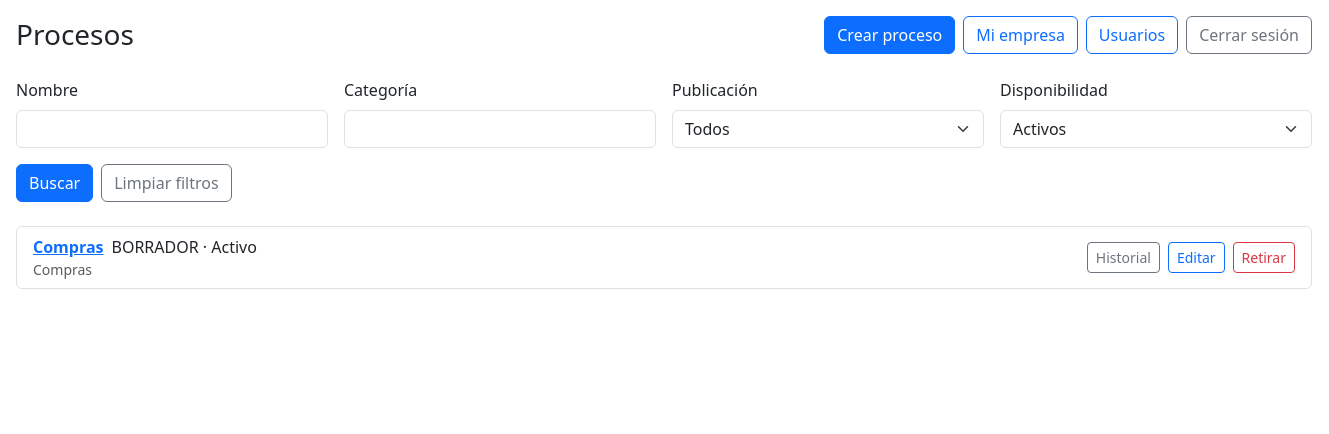
ProcesosListComponent › retira únicamente después de confirmar y conserva el filtro al recargar
Click the button "Retirar" at (1264, 258), box [1233, 242, 1295, 273]
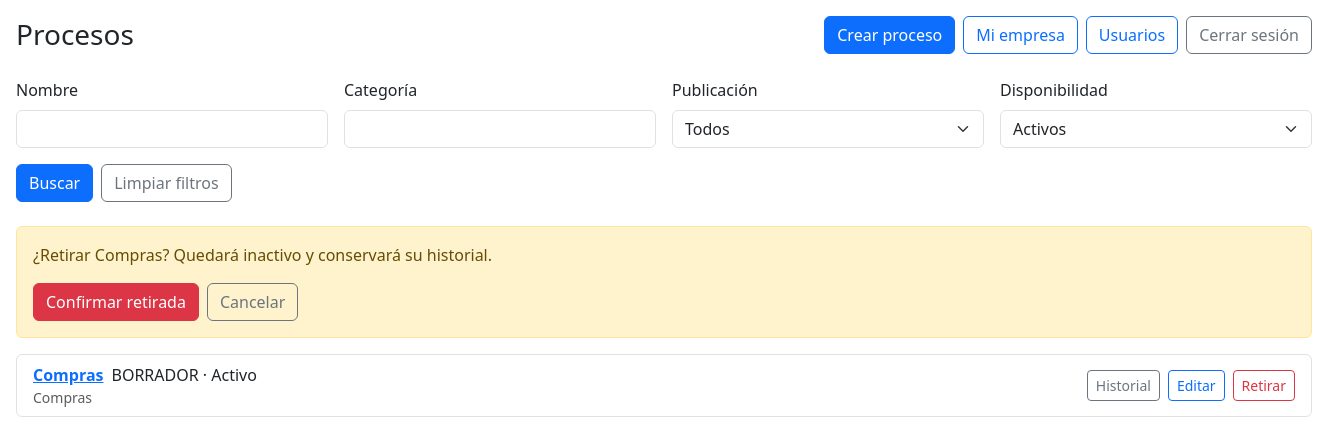
Click the button "Confirmar retirada" at (116, 302), box [33, 283, 199, 321]
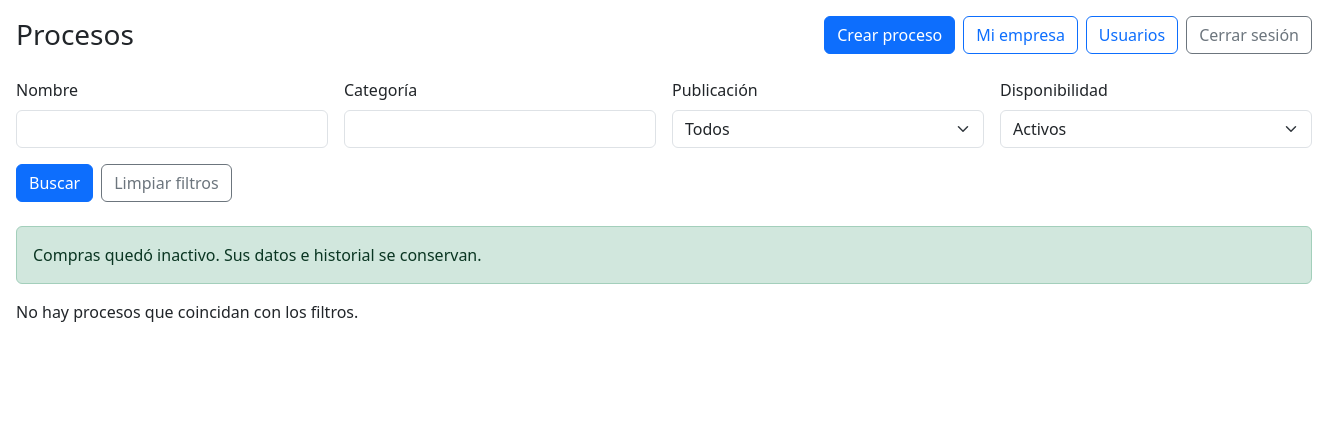
Now the text "quedó inactivo" is shown, box [33, 244, 482, 266]
